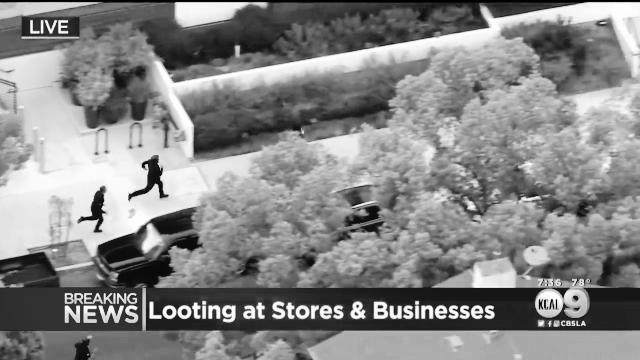berlari: (128, 149, 168, 203), (71, 185, 109, 238)
